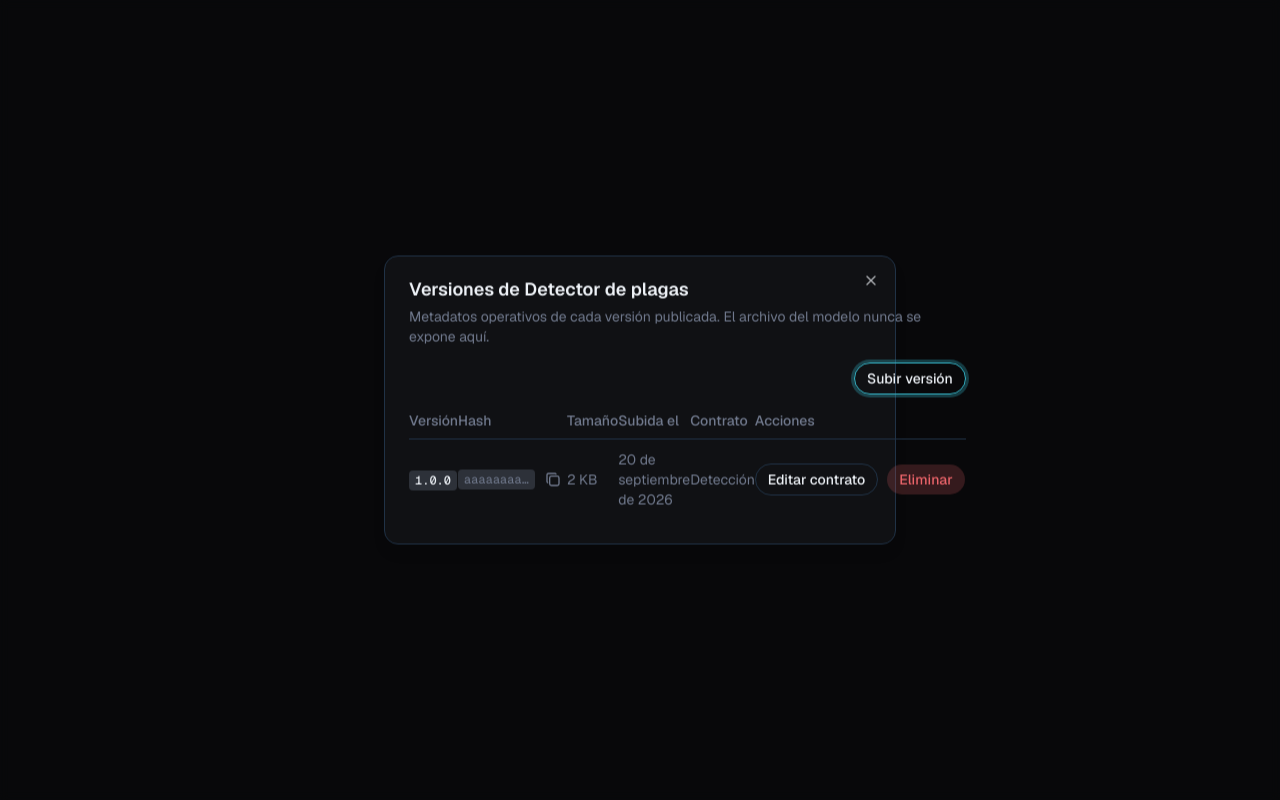
ModelVersionsDialog › loads, saves, and reloads a non-default detection tensor role map
Click the button "Editar contrato": point(816, 480) top-left (755, 464), bottom-right (878, 496)
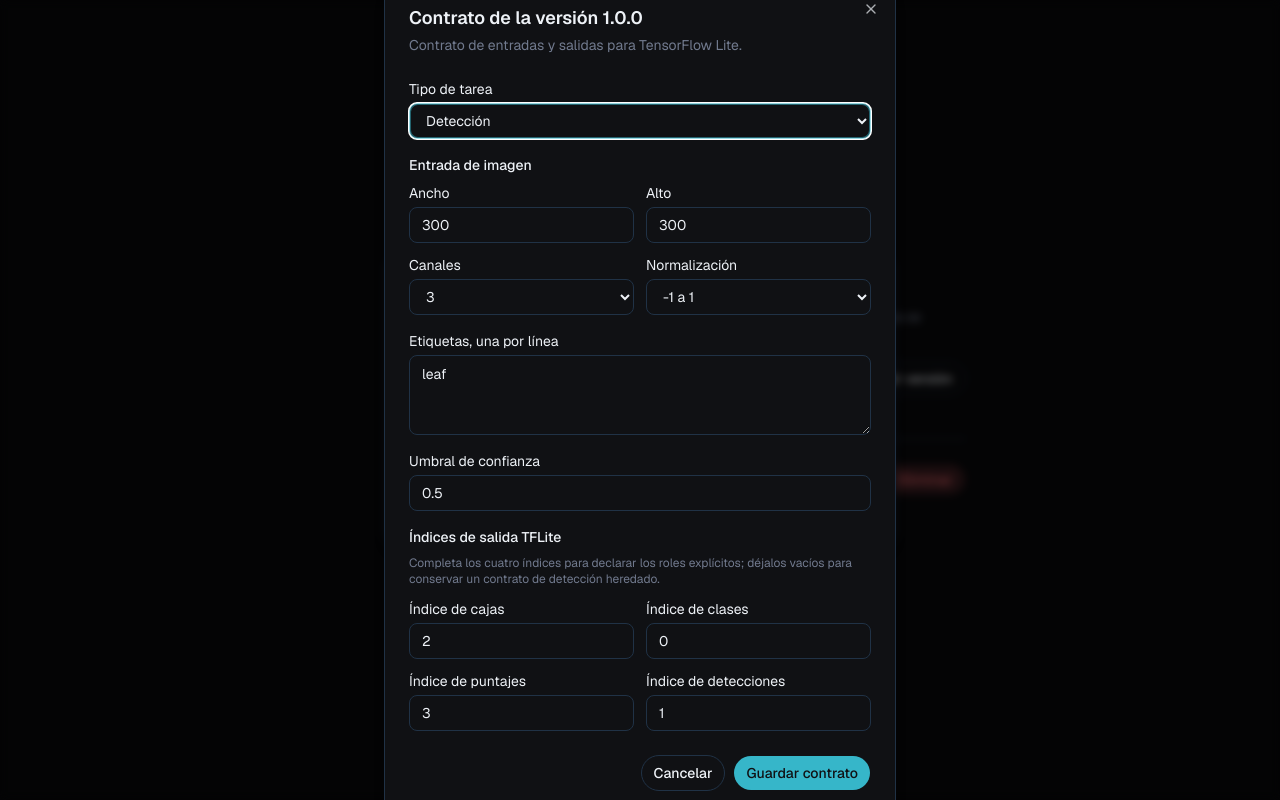
Result: the number field labelled "Índice de cajas" holds "2"
Result: the number field labelled "Índice de clases" holds "0" at top-left (646, 623), bottom-right (871, 659)
Result: the number field labelled "Índice de puntajes" holds "3" at top-left (409, 695), bottom-right (634, 731)
Replace the text in the number field labelled "Índice de cajas" with "3": point(522, 641) top-left (409, 623), bottom-right (634, 659)
Replace the text in the number field labelled "Índice de clases" with "2": point(758, 641) top-left (646, 623), bottom-right (871, 659)
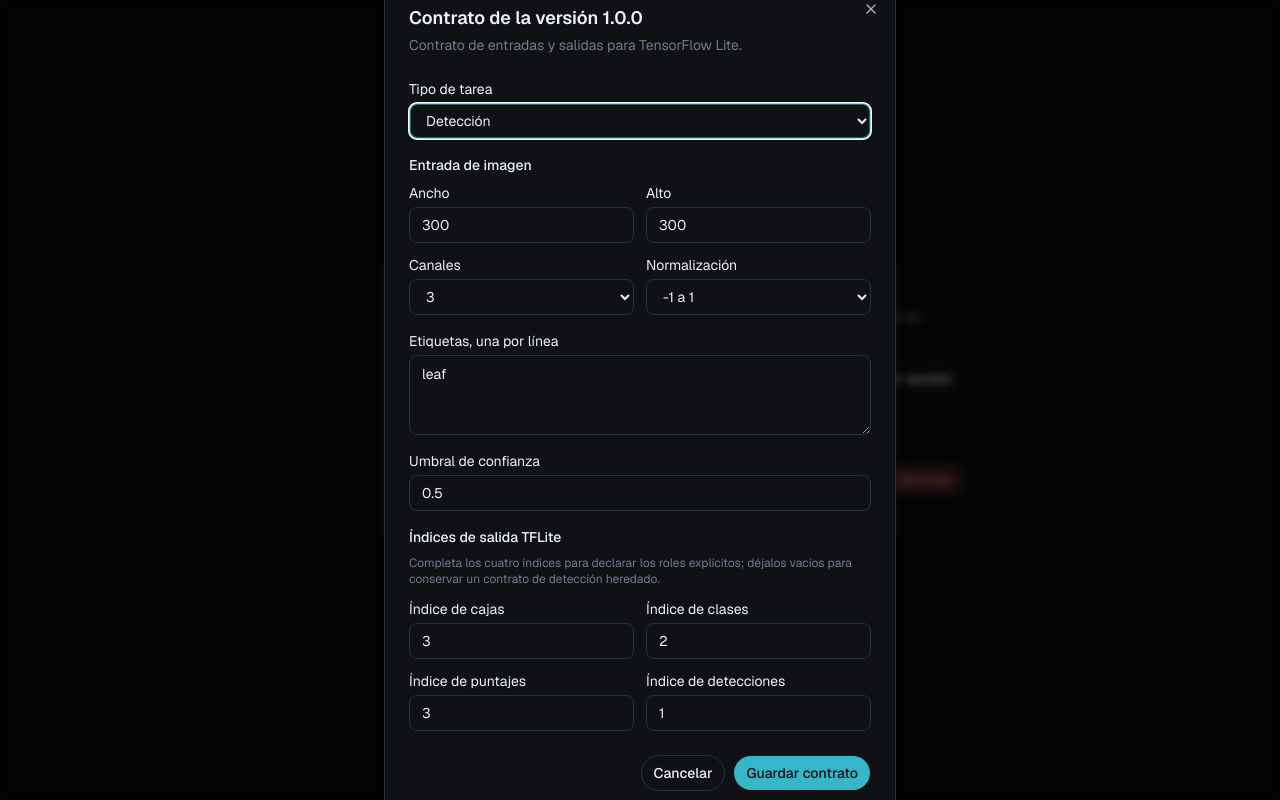
Replace the text in the number field labelled "Índice de puntajes" with "1": point(522, 713) top-left (409, 695), bottom-right (634, 731)
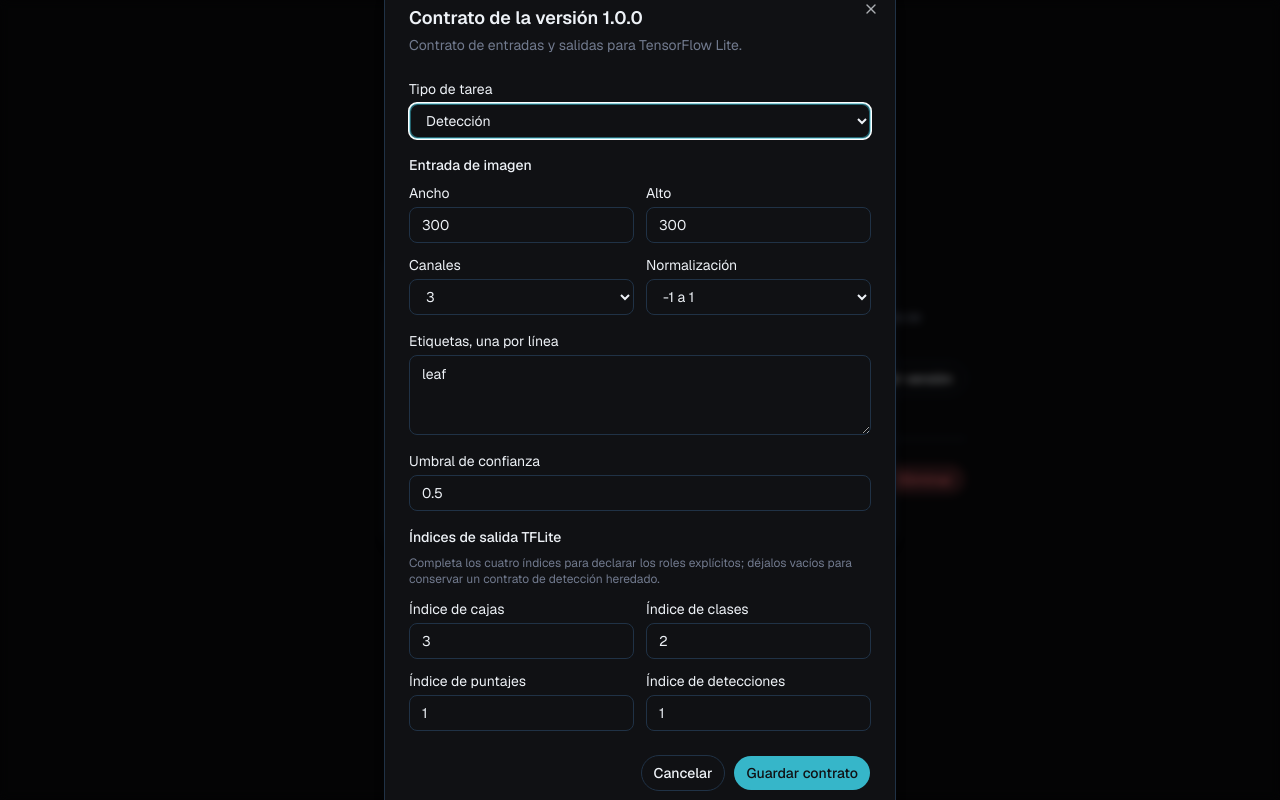
Replace the text in the number field labelled "Índice de detecciones" with "0": point(758, 713) top-left (646, 695), bottom-right (871, 731)
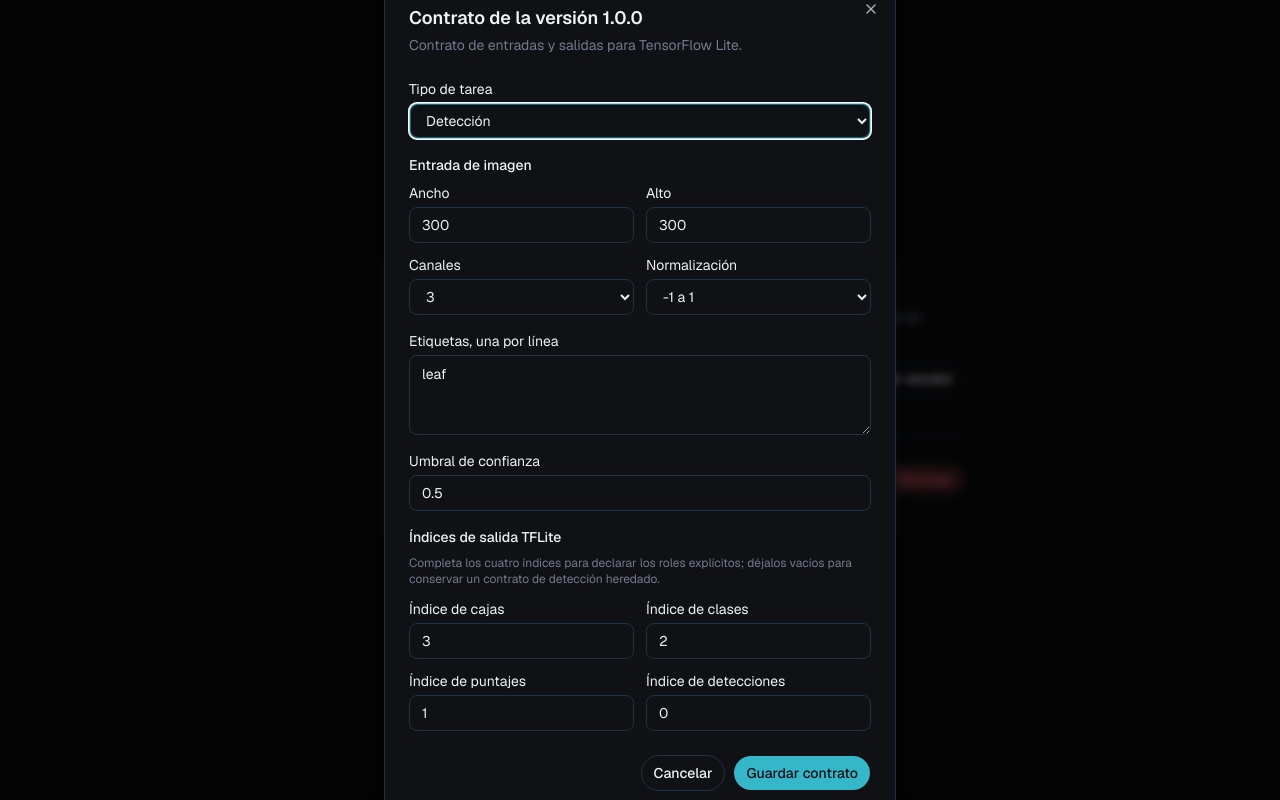
Click the button "Guardar contrato": point(802, 773) top-left (734, 755), bottom-right (871, 791)
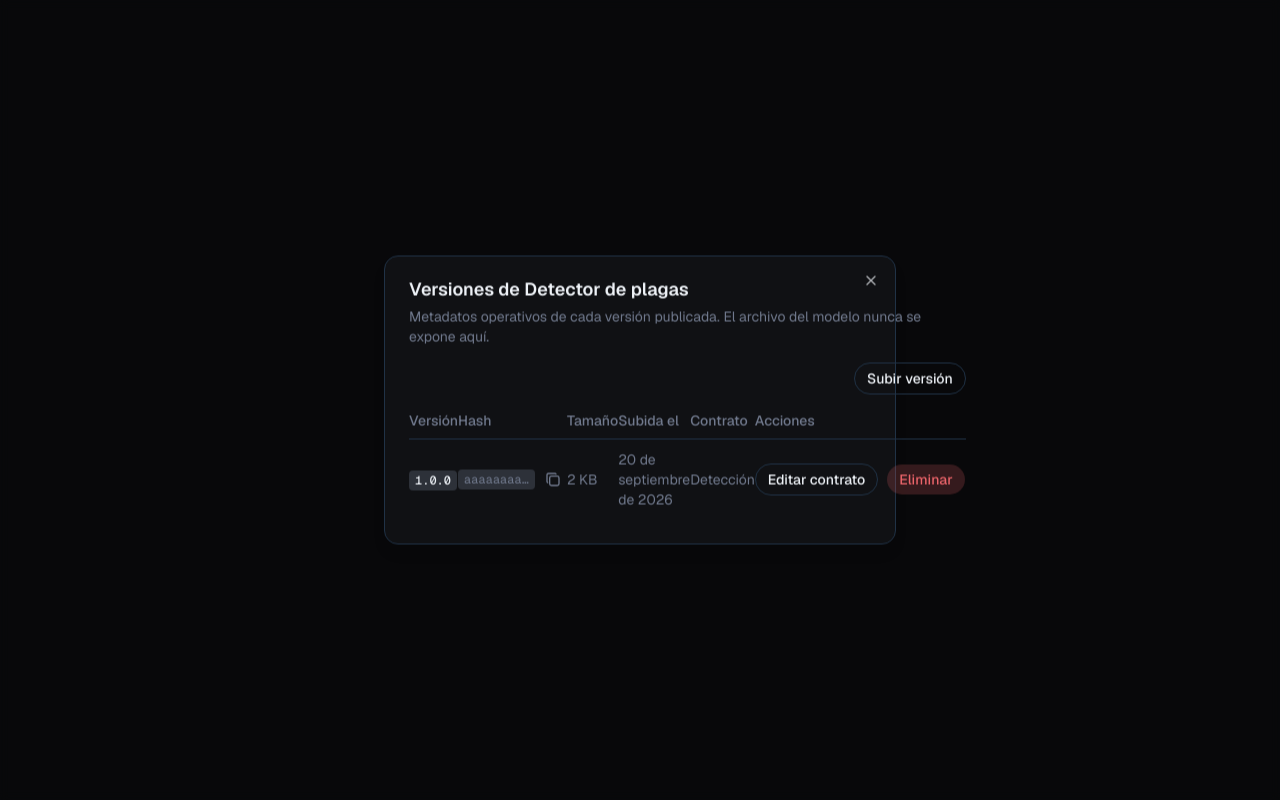
Click the button "Editar contrato": point(816, 480) top-left (755, 464), bottom-right (878, 496)
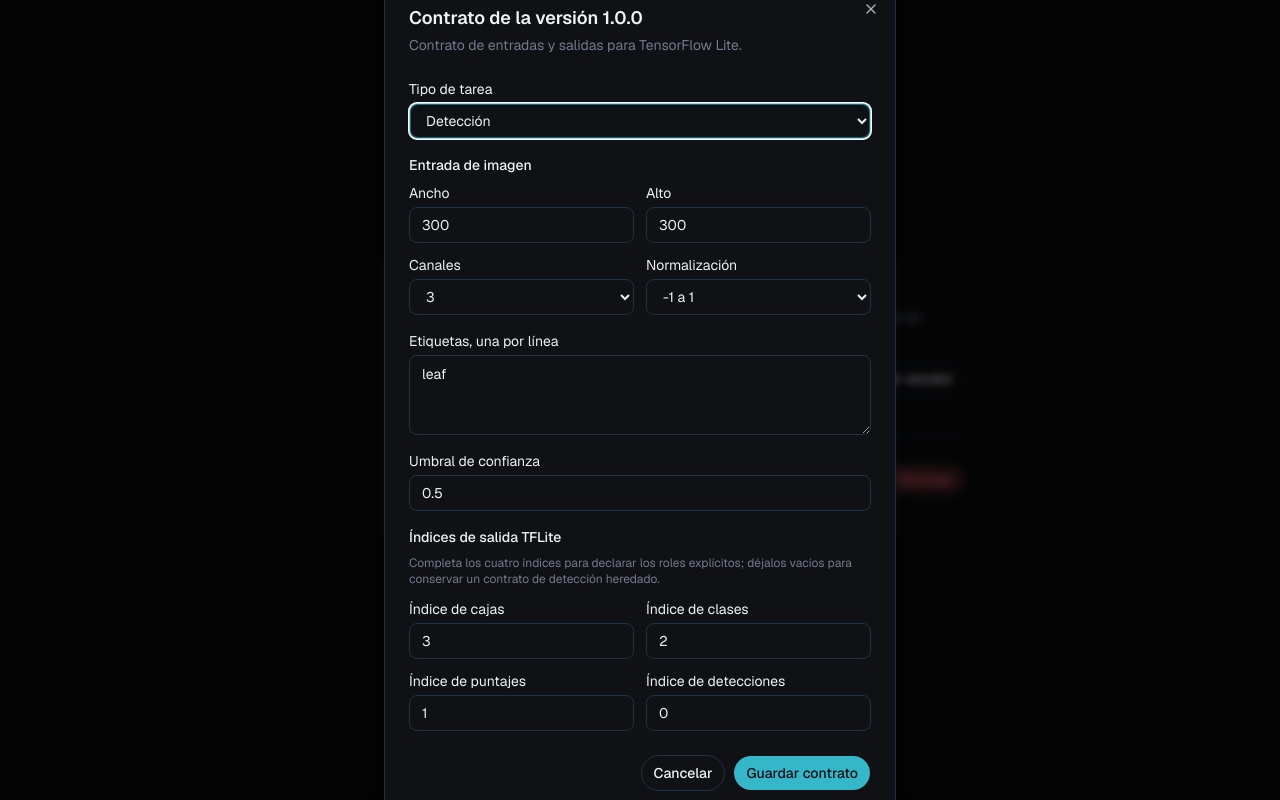
Result: the number field labelled "Índice de cajas" holds "3" at top-left (409, 623), bottom-right (634, 659)
Result: the number field labelled "Índice de clases" holds "2" at top-left (646, 623), bottom-right (871, 659)
Result: the number field labelled "Índice de detecciones" holds "0" at top-left (646, 695), bottom-right (871, 731)
